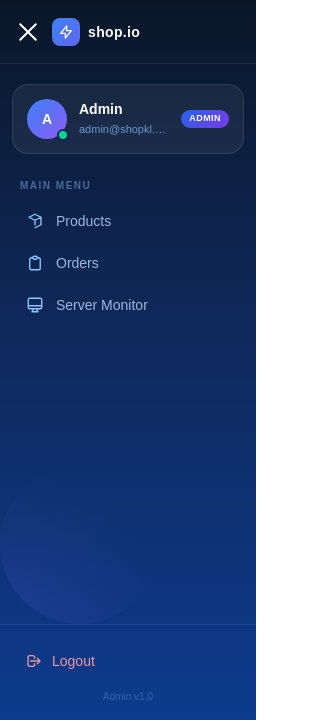
Test: Sidebar — toggle behaviour › re-opens when toggled again
Click the button named "toggle sidebar" at (28, 32), box top-left (16, 20), bottom-right (40, 44)
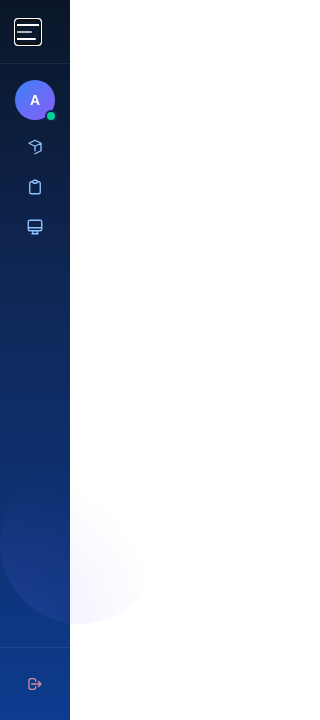
Click the button named "toggle sidebar" at (28, 32), box top-left (16, 20), bottom-right (40, 44)
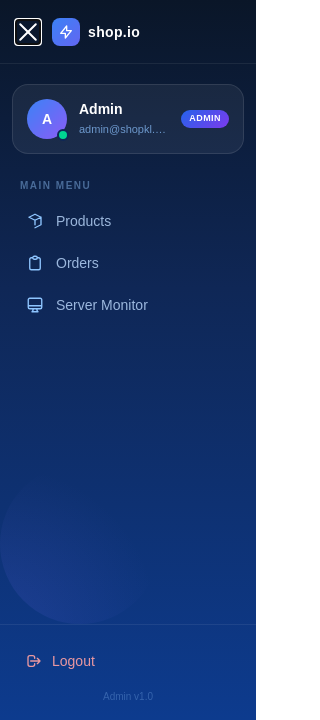
Check: the text "shop.io" is shown, box top-left (88, 22), bottom-right (140, 42)
